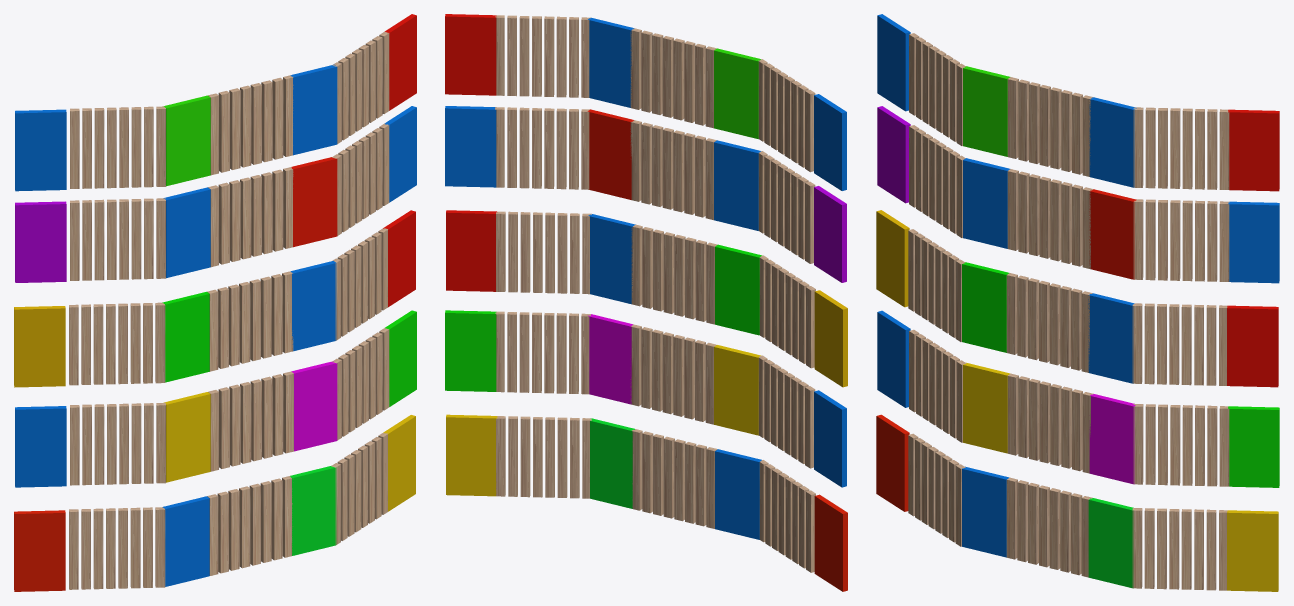
The model's file is professional-3d-bridge-for-farming-simulator.fbx.
3 views of the same model, side by side, from view 1: azimuth 30°, elevation 25°; view 2: azimuth 150°, elevation 25°; view 3: azimuth 330°, elevation 25° (orthographic).
Parts seen in each view (by area): view 1: Material_004-material_10, Material_004-material_7, Material_004-material_13, Material_004-material_4, Material_004-material_1, Material_004-material_11, Material_004-material_5, Material_004-material_8, Material_004-material, Material_004-material_2, Material_004-material_9, Material_004-material_3 (+23 smaller); view 2: Material_004-material_1, Material_004-material_7, Material_004-material_4, Material_004-material_10, Material_004-material_13, Material_004-material_9, Material_004-material_3, Material_004-material_0, Material_004-material_6, Material_004-material_12, Material_004-material_2, Material_004-material (+23 smaller); view 3: Material_004-material_0, Material_004-material_3, Material_004-material_9, Material_004-material_4, Material_004-material_7, Material_004-material_1, Material_004-material_10, Material_004-material_13, Material_004-material_12, Material_004-material_6, Material_004-material_5, Material_004-material_11 (+23 smaller).
Part boxes in pixels (x1,y1,x2,y2): Material_004-material_10: (208, 371, 293, 471); Material_004-material_7: (207, 271, 293, 371); Material_004-material_13: (207, 476, 292, 575); Material_004-material_4: (208, 167, 293, 267); Material_004-material_1: (208, 75, 293, 175); Material_004-material_11: (69, 507, 165, 589); Material_004-material_5: (69, 302, 165, 385); Material_004-material_8: (70, 402, 165, 485); Material_004-material: (70, 106, 165, 188); Material_004-material_2: (70, 198, 165, 280); Material_004-material_9: (332, 328, 389, 440); Material_004-material_3: (332, 123, 389, 235); Material_004-material_1: (630, 28, 716, 128); Material_004-material_7: (631, 224, 717, 324); Material_004-material_4: (630, 120, 716, 220); Material_004-material_10: (630, 324, 716, 424); Material_004-material_13: (632, 429, 717, 528); Material_004-material_9: (495, 311, 590, 394); Material_004-material_3: (495, 107, 589, 189); Material_004-material_0: (495, 15, 590, 97); Material_004-material_6: (496, 211, 591, 294); Material_004-material_12: (496, 416, 591, 498); Material_004-material_2: (758, 151, 815, 263); Material_004-material: (758, 59, 815, 172); Material_004-material_0: (1133, 107, 1229, 189); Material_004-material_3: (1133, 199, 1229, 281); Material_004-material_9: (1133, 404, 1229, 486); Material_004-material_4: (1007, 169, 1093, 269); Material_004-material_7: (1006, 273, 1092, 372); Material_004-material_1: (1007, 77, 1093, 176); Material_004-material_10: (1007, 373, 1093, 473); Material_004-material_13: (1006, 477, 1092, 577); Material_004-material_12: (1132, 508, 1227, 590); Material_004-material_6: (1132, 303, 1227, 385); Material_004-material_5: (908, 229, 965, 341); Material_004-material_11: (908, 433, 965, 546).
Bounding box in the file's own units: 5540 × 6292 × 854.
15 materials, 1 textured.
